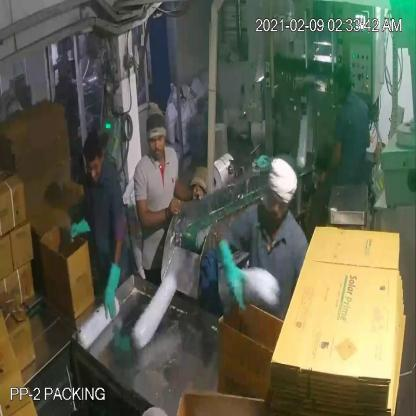glove: (209, 232, 254, 317), (96, 258, 127, 321), (64, 212, 98, 248)
no_glove: (132, 187, 186, 231), (314, 130, 345, 191), (172, 172, 204, 209)
